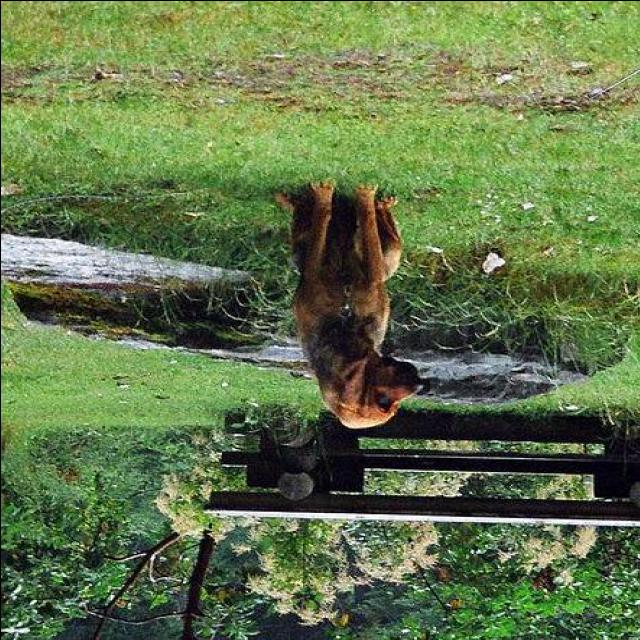bloodhound: (269, 177, 423, 431)
